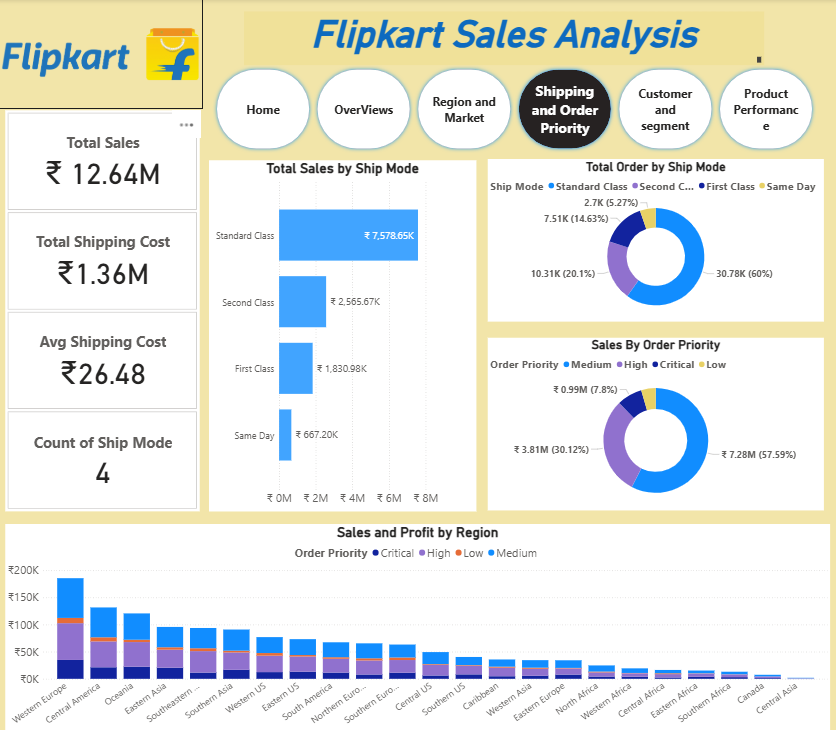

Layout of this report page (visuals, bound fields, positions):
{"tool":"powerbi","page":{"name":"Shipping and Order Priority","canvas":[1600,1400],"ordinal":3},"visuals":[{"type":"pageNavigator","box":[408,126.4,1157.1,167],"z":0},{"type":"textbox","title":"Flipkart Sales Analysis ","box":[467.6,23.9,992.5,102.6],"z":1000},{"type":"cardVisual","fields":{"Data":["Sum(Orders.Sales)","Sum(Orders.Shipping Cost)1","Avg(Orders.Shipping Cost)","Count(Orders.Ship Mode)"]},"box":[11.9,212.3,371,765.9],"z":2000},{"type":"barChart","fields":{"Category":["Orders.Ship Mode"],"Y":["Sum(Orders.Sales)"]},"box":[400.8,307.8,510.6,670.4],"z":3000},{"type":"image","box":[0,0,388.9,210],"z":4000},{"type":"columnChart","title":" Sales and  Profit by Region","fields":{"Category":["Orders.Region"],"Series":["Orders.Order Priority"],"Y":["Sum(Orders.Shipping Cost)"]},"box":[11.9,1001.5,1574.7,398.4],"z":5000},{"type":"donutChart","title":"Total Order by Ship Mode","fields":{"Y":["CountNonNull(Orders.Order ID)"],"Category":["Orders.Ship Mode"]},"box":[932.9,305.4,641.8,310.2],"z":6000},{"type":"donutChart","title":"Sales By Order Priority","fields":{"Y":["Sum(Orders.Sales)"],"Category":["Orders.Order Priority"]},"box":[932.9,646.6,641.8,329.2],"z":7000}]}

Visuals, with their boxes in screenshot pixels (x1, y1, x2, y2), scaled from the page's 1600x1400 canvas onto the 836x730 screenshot:
pageNavigator: (213,66,818,153)
"Flipkart Sales Analysis " textbox: (244,12,763,66)
cardVisual - Sum(Orders.Sales) x Sum(Orders.Shipping Cost)1: (6,111,200,510)
barChart - Orders.Ship Mode x Sum(Orders.Sales): (209,160,476,510)
image: (0,0,203,110)
" Sales and  Profit by Region" columnChart: (6,522,829,729)
"Total Order by Ship Mode" donutChart: (487,159,823,321)
"Sales By Order Priority" donutChart: (487,337,823,509)
